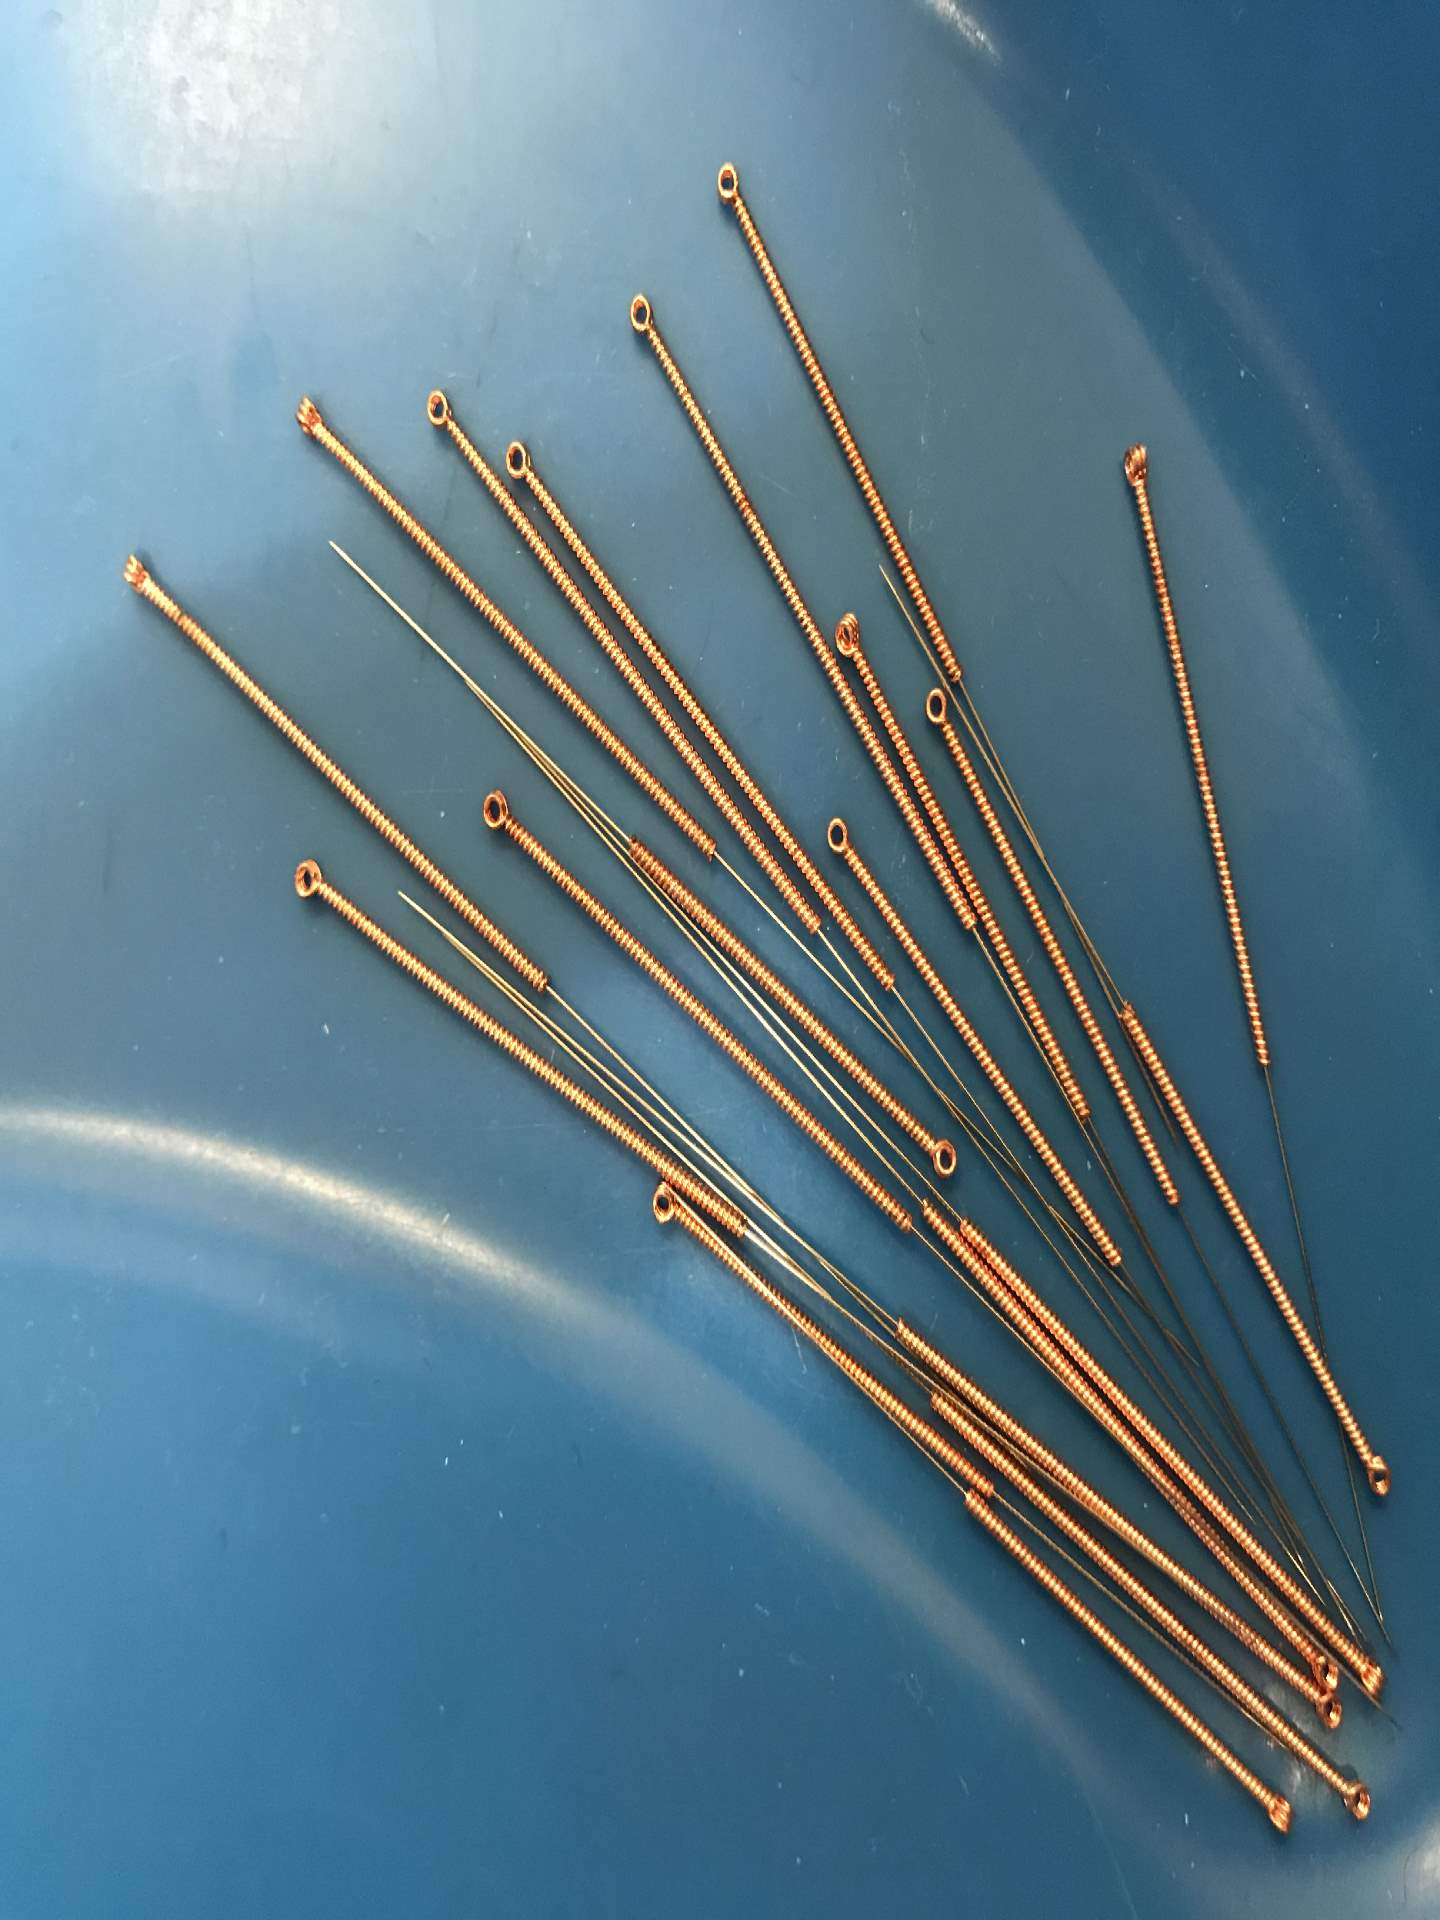needle: (101, 543, 166, 609), (275, 850, 342, 909), (1245, 1778, 1302, 1846), (464, 779, 523, 844), (1110, 434, 1162, 500), (1354, 1438, 1401, 1510), (1330, 1770, 1384, 1832), (914, 1128, 970, 1185), (281, 389, 334, 447), (703, 153, 753, 215), (414, 382, 464, 441), (614, 284, 663, 343), (637, 1181, 685, 1238), (498, 432, 546, 488), (830, 602, 871, 667), (818, 809, 861, 869), (1352, 1649, 1398, 1702), (917, 683, 957, 741), (1302, 1687, 1349, 1736), (1299, 1646, 1346, 1693)
